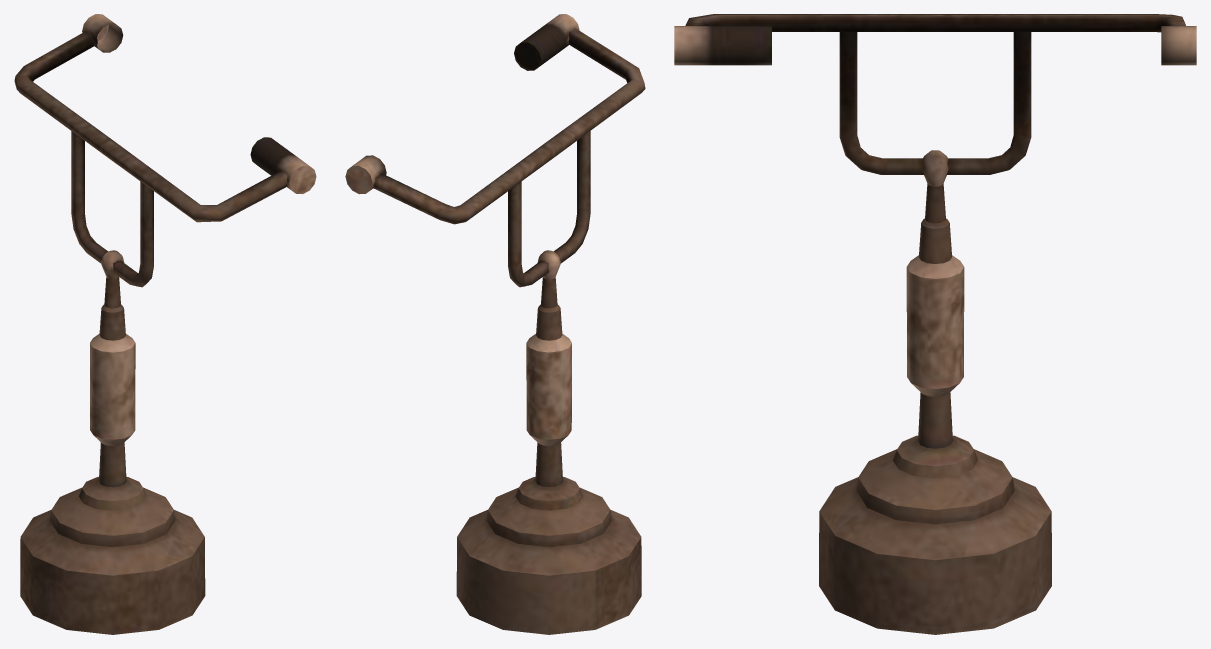
The model's file is body.obj.
3 renders of one model, left to right at view 1: azimuth 30°, elevation 25°; view 2: azimuth 150°, elevation 25°; view 3: azimuth 270°, elevation 25°, orthographic. The views are drawn at different scales.
Visible parts, largest first — view 1: LampBase; view 2: LampBase; view 3: LampBase.
Part boxes in pixels (x1=…): LampBase: x1=14, y1=14, x2=316, y2=634; LampBase: x1=345, y1=14, x2=645, y2=634; LampBase: x1=674, y1=14, x2=1196, y2=634.
Bounding box in the file's own units: 0.1116 × 0.2874 × 0.2227.
